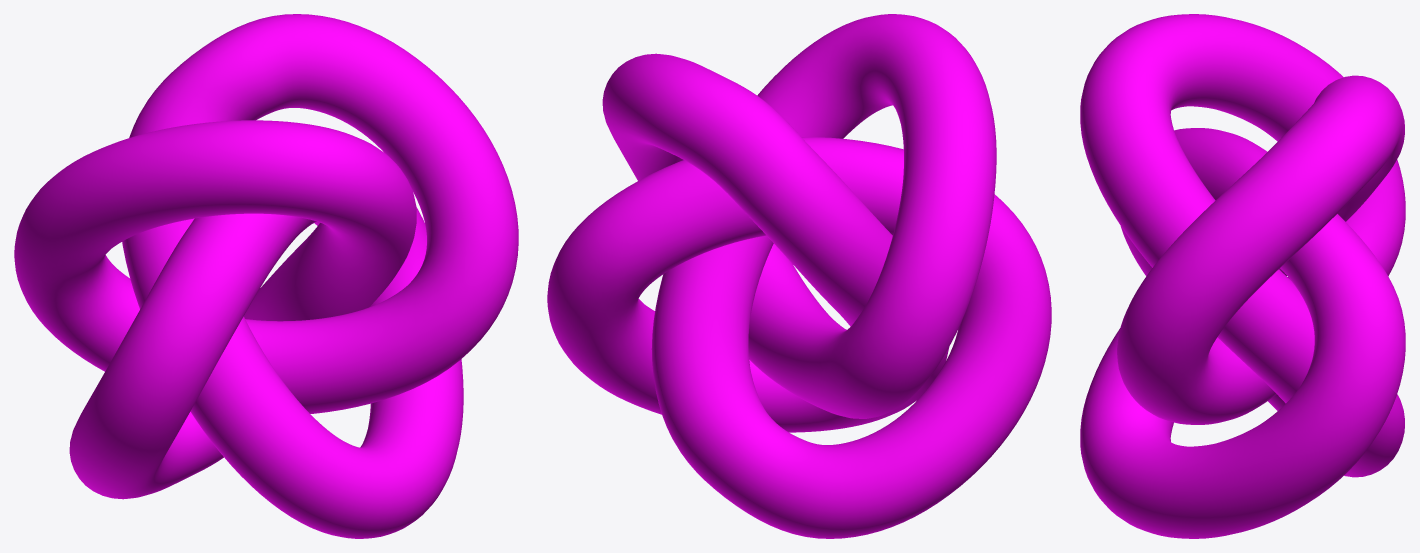
The model's file is torus_knot.obj.
The picture shows the model from 3 angles, left to right: view 1: azimuth 30°, elevation 25°; view 2: azimuth 150°, elevation 25°; view 3: azimuth 270°, elevation 25°; orthographic projection.
Visible parts, largest first — view 1: TorusKnot; view 2: TorusKnot; view 3: TorusKnot.
Part boxes in pixels (x1,y1,x2,y2): TorusKnot: [14, 14, 518, 538]; TorusKnot: [547, 14, 1051, 538]; TorusKnot: [1080, 14, 1405, 538].
Size of the model in its own units: 28.88 by 28.9 by 19.83.
